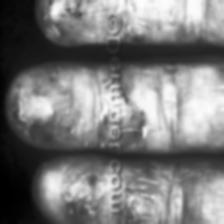Non-Cancerous Skin Condition: (63, 174, 101, 223), (126, 176, 162, 224), (8, 94, 23, 123), (64, 0, 84, 20)
